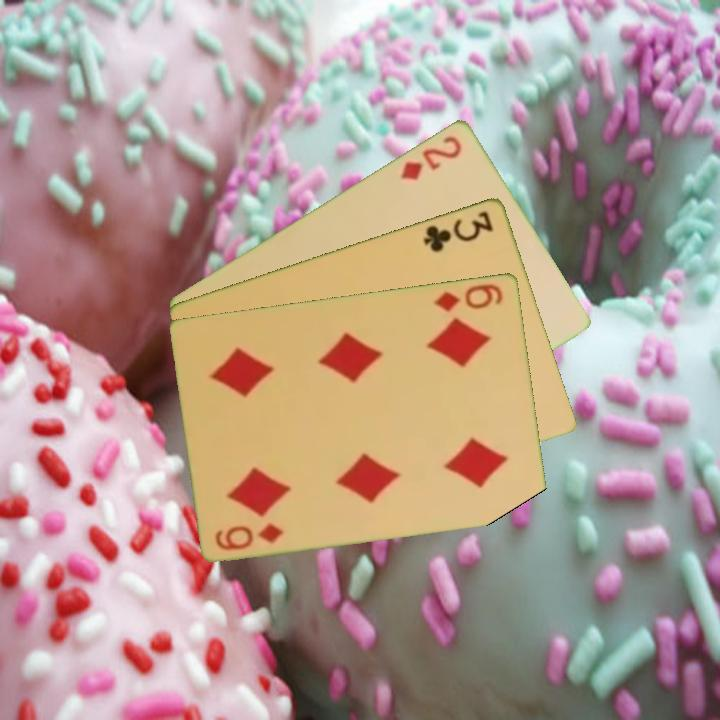2d: (397, 131, 465, 183)
3c: (420, 207, 497, 255)
6d: (430, 280, 506, 314), (212, 519, 287, 553)
